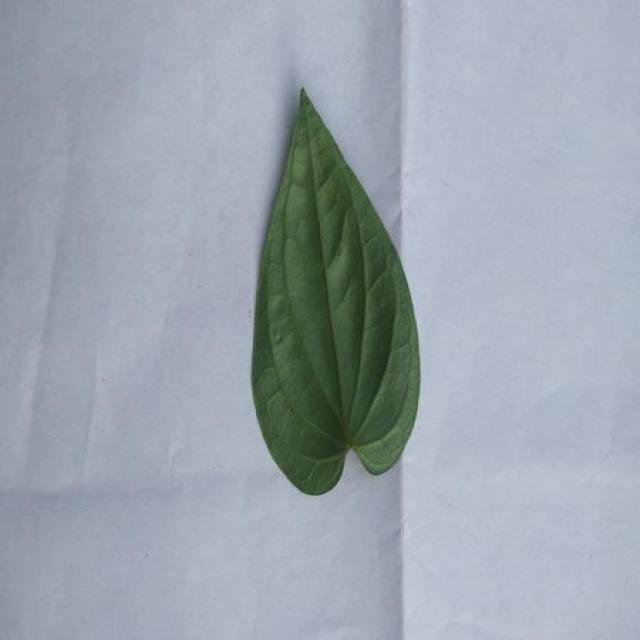betel: (252, 90, 420, 494)
